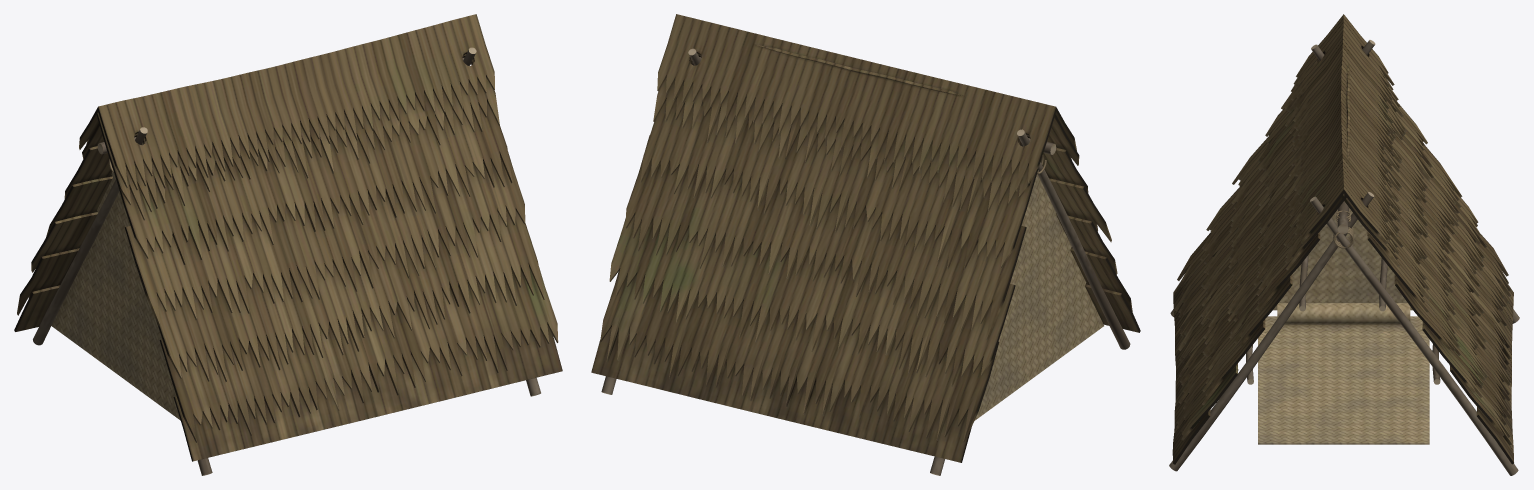
File: Tent.glb
The picture shows the model from 3 angles, left to right: view 1: azimuth 30°, elevation 25°; view 2: azimuth 150°, elevation 25°; view 3: azimuth 270°, elevation 25°; orthographic projection. The views are drawn at different scales.
Parts seen in each view (by area): view 1: Tent; view 2: Tent; view 3: Tent.
Boxes of the visible parts, <box> form: Tent: <box>14,14,562,475</box>; Tent: <box>591,14,1140,475</box>; Tent: <box>1169,14,1519,475</box>.
Bounding box in the file's own units: 3.02 × 2.35 × 2.53.
Materials: 1 (1 with a texture image).
